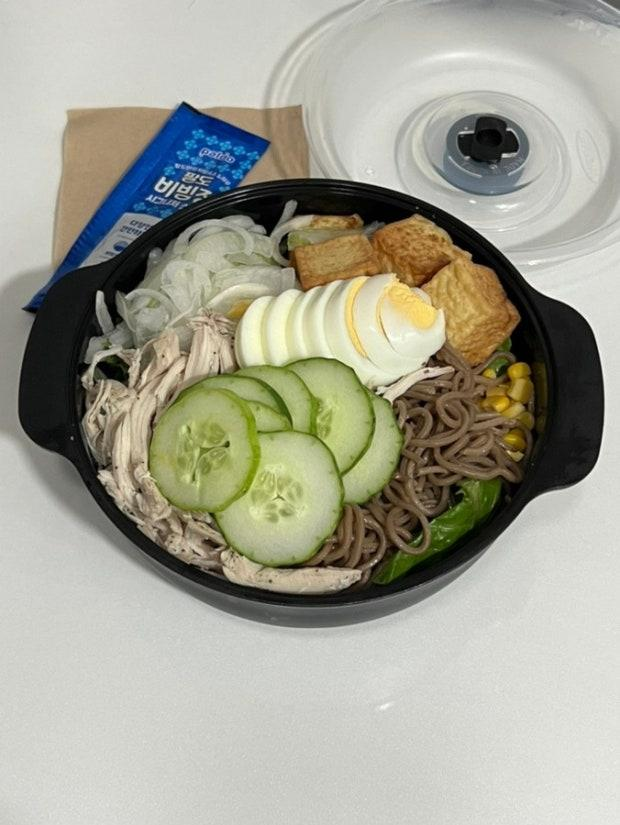Lunch Box: (18, 180, 603, 625)
